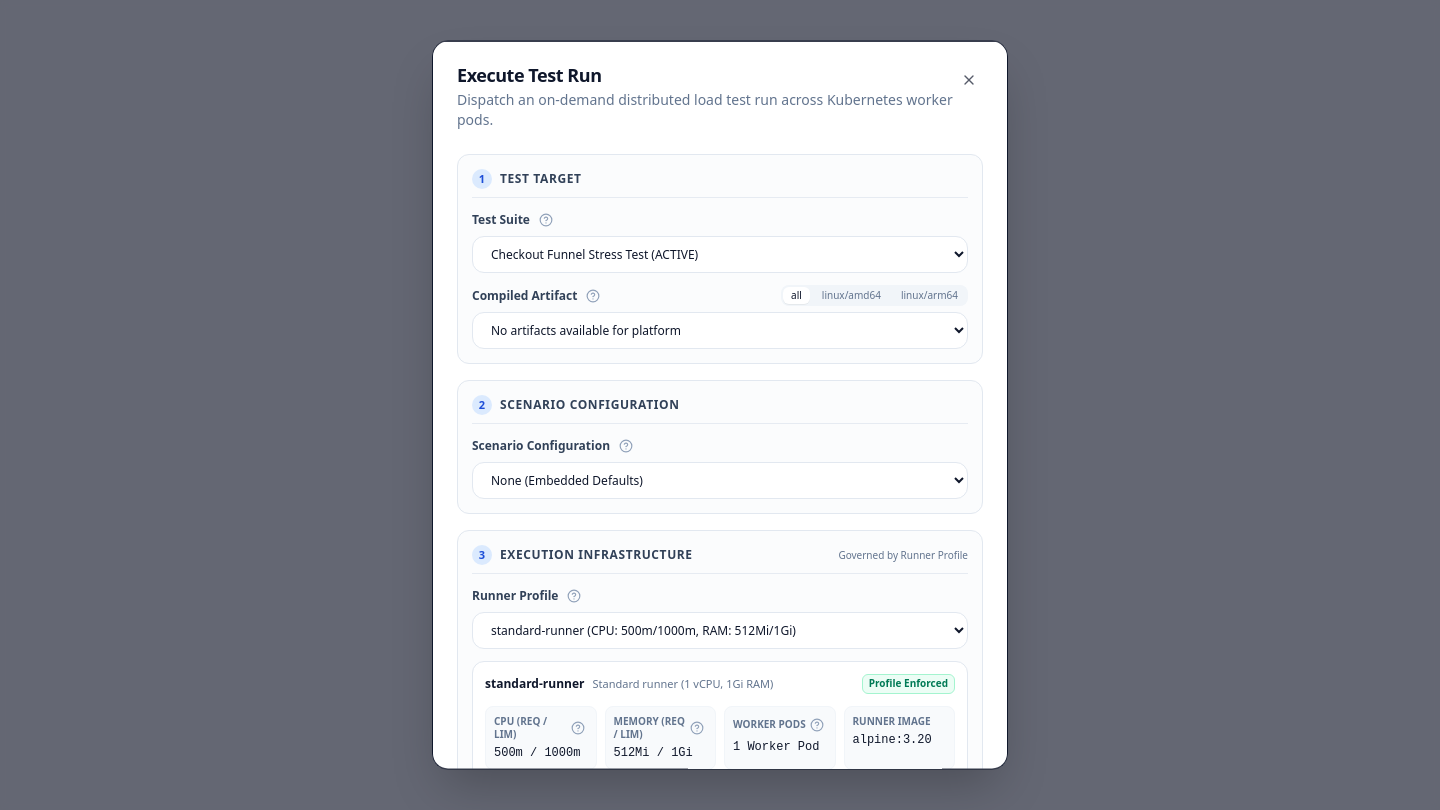
Test: Ad-Hoc Load Test Execution Dispatcher & Live Monitor › TriggerRunDialog › dynamically updates read-only resource specifications when profile changes
This screenshot has width=1440, height=810.
Expected: the text "500m / 1000m" is shown, [494, 745, 588, 761]
Expected: the text "alpine:3.20" is shown, [852, 732, 932, 746]
Note: Switch to profile-2
Select "high-perf-runner (CPU: 2000m/4000m, RAM: 4Gi/8Gi)" in the dropdown labelled "Runner Profile". click: x=720, y=630
box: [472, 612, 968, 649]
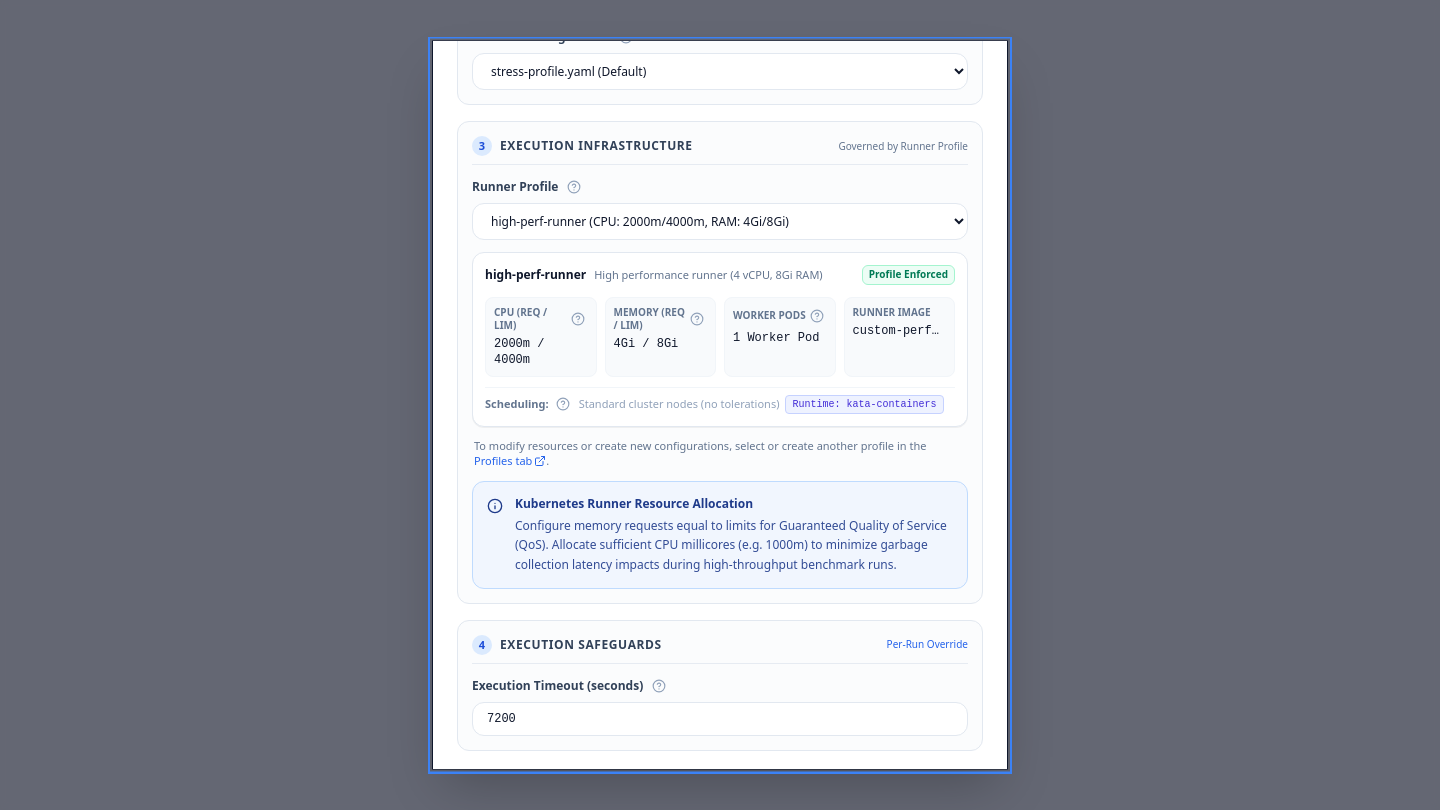
Now the text "2000m / 4000m" is shown, box [494, 338, 544, 368]
Now the text "4Gi / 8Gi" is shown, box [614, 338, 678, 352]
Now the text "custom-perf-image:v1" is shown, box [852, 324, 946, 340]
